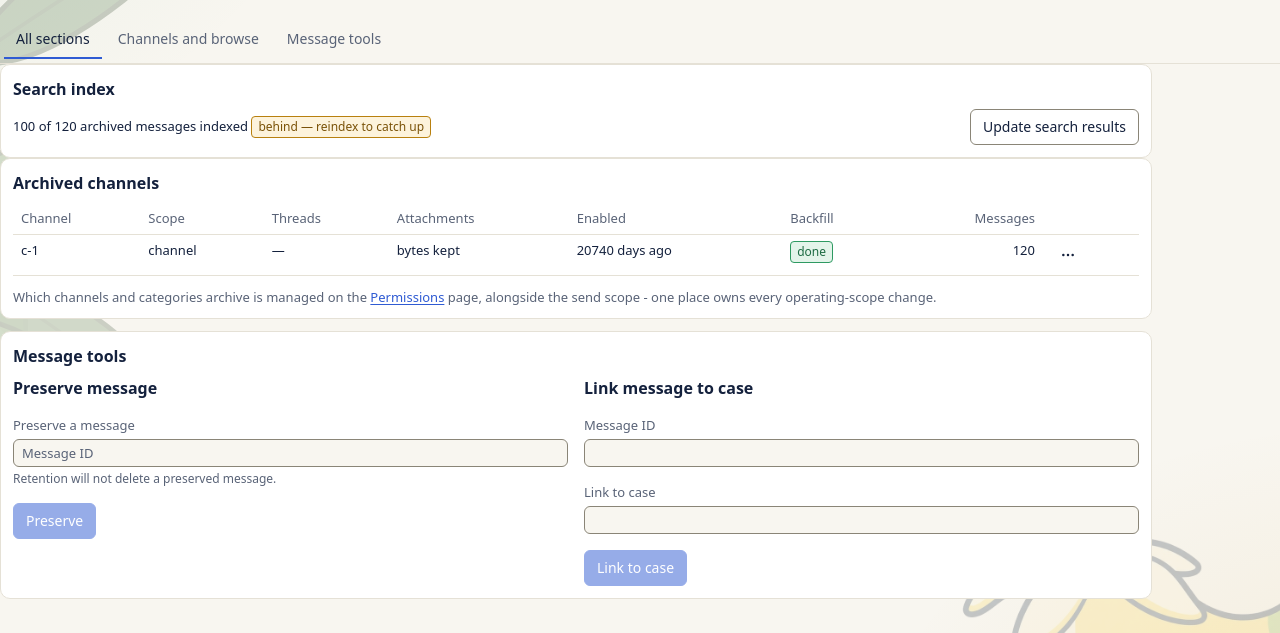
Scenario: ArchivePage › browse pages older messages with the before cursor and walks back
Click the button named "Actions for c-1" at (1068, 255), box [1051,241,1085,269]
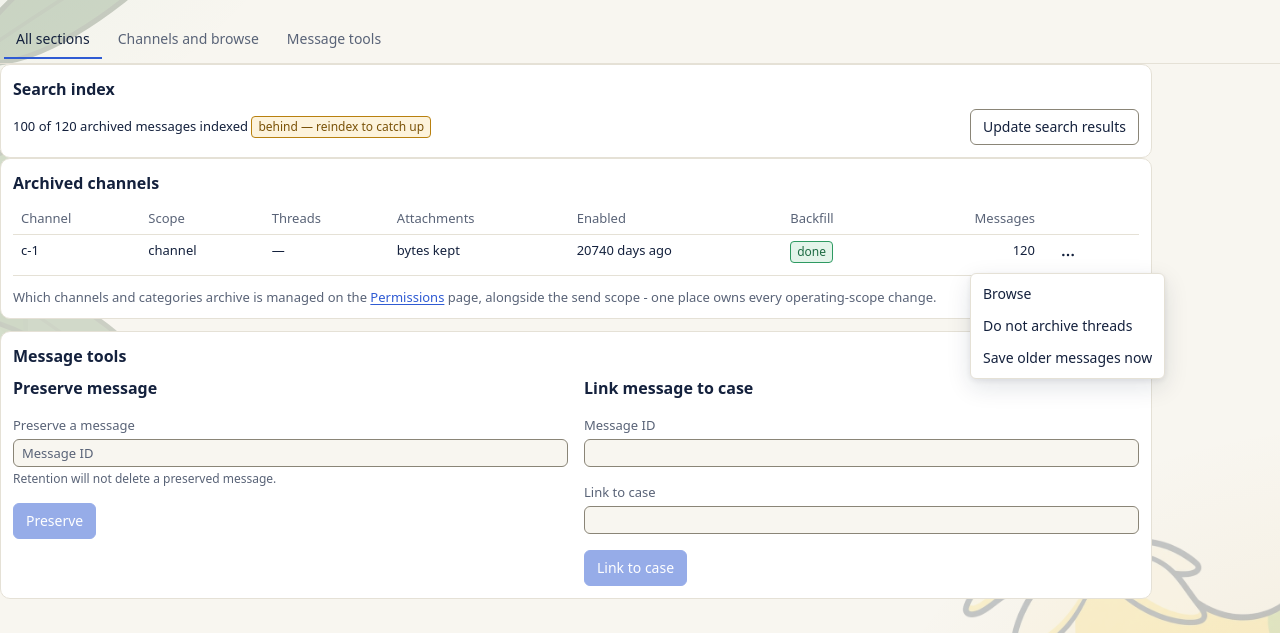
Click the menu item "Browse" at (1007, 294), box [983,284,1031,303]
(page scrolled)
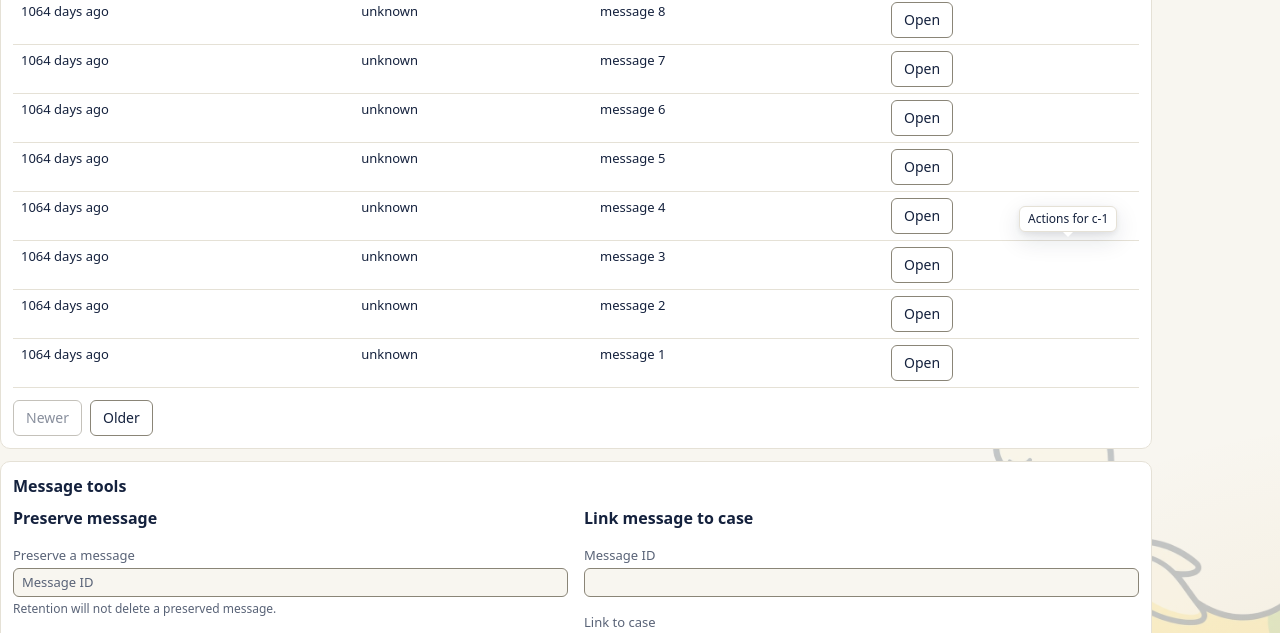
Click the button "Older" at (121, 418), box [90,400,153,436]
(page scrolled)
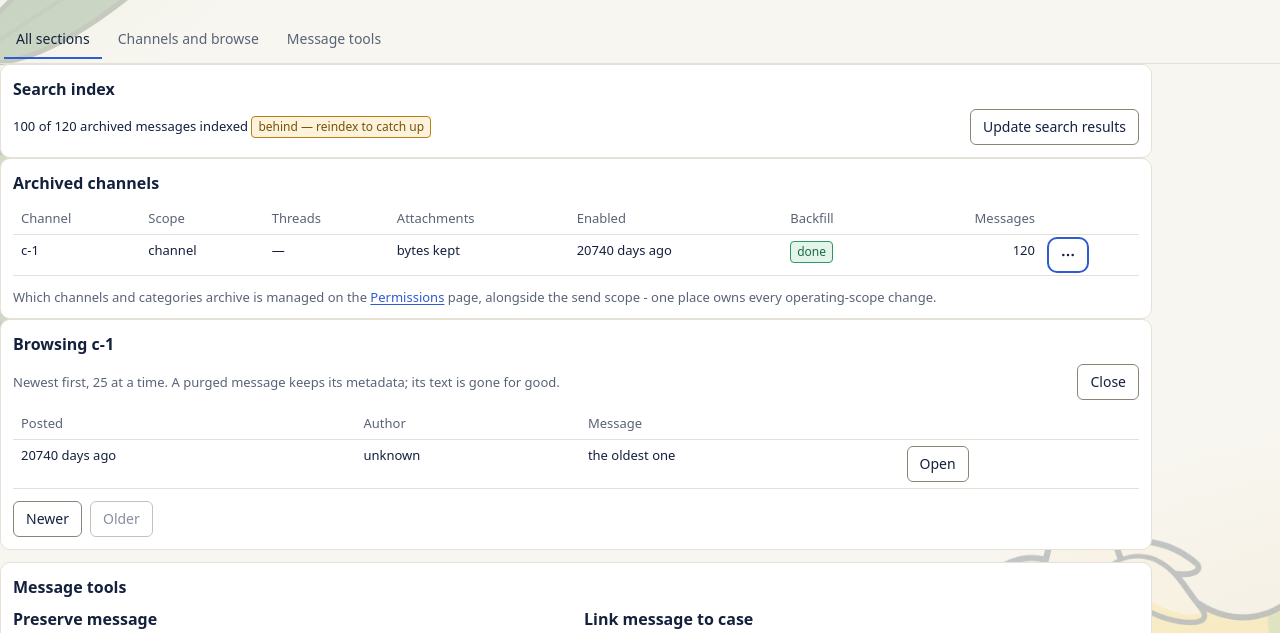
Check: the text "the oldest one" is shown, box [588,446,675,464]
Click the button "Newer" at (48, 519), box [13,501,82,537]
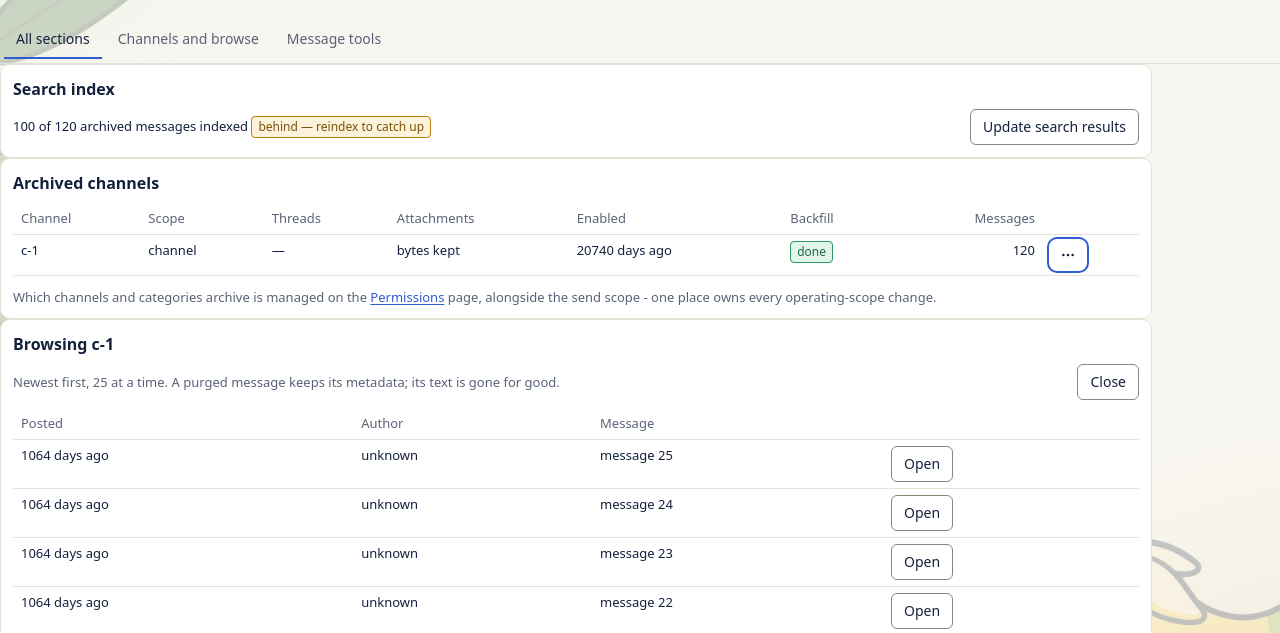
Check: the text "message 25" is shown, box [600,446,673,464]
